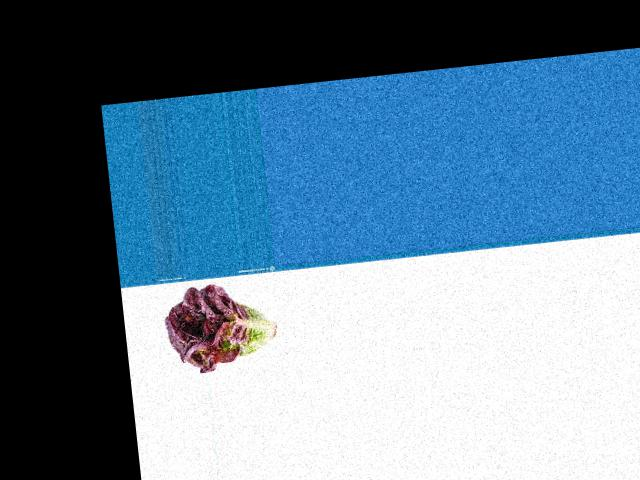lettuce: (163, 277, 281, 373)
